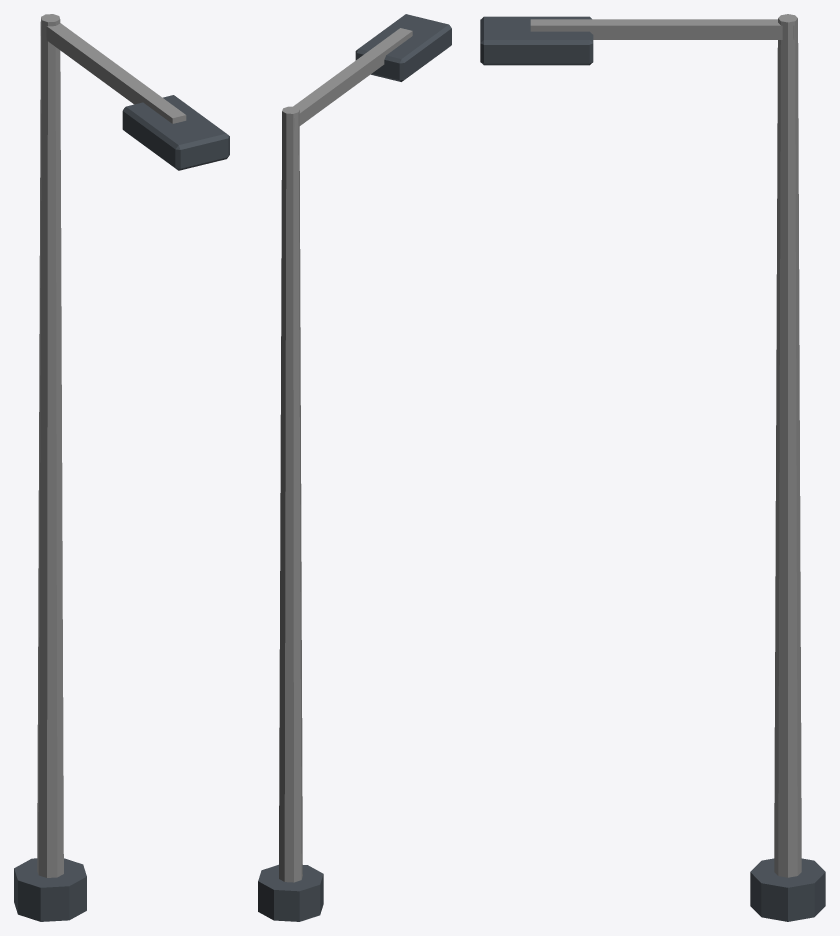
File: PRP_Streetlight.fbx
3 renders of one model, left to right at view 1: azimuth 30°, elevation 25°; view 2: azimuth 150°, elevation 25°; view 3: azimuth 270°, elevation 25°, orthographic. The views are drawn at different scales.
Parts seen in each view (by area): view 1: PRP_Streetlight; view 2: PRP_Streetlight; view 3: PRP_Streetlight.
Part boxes in pixels (x1=…): PRP_Streetlight: x1=14, y1=14, x2=229, y2=921; PRP_Streetlight: x1=258, y1=14, x2=451, y2=921; PRP_Streetlight: x1=480, y1=14, x2=825, y2=921.
Size of the model in its own units: 1.2 by 15.6 by 5.5.
